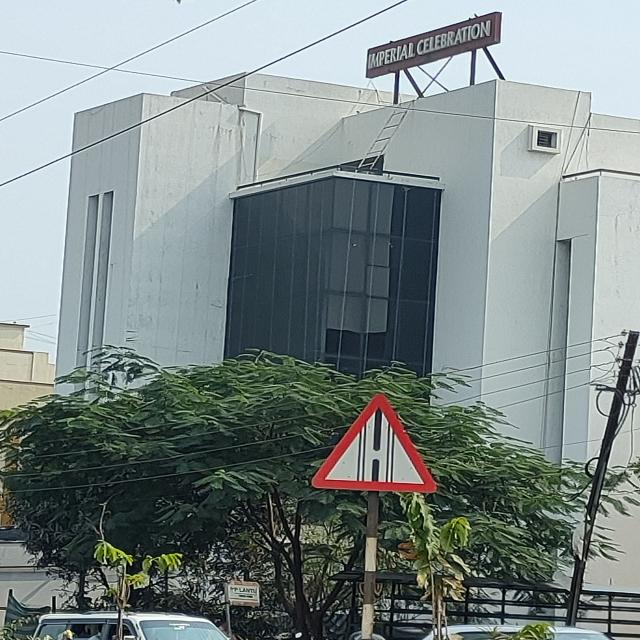GAP_IN_MEDIAN: (312, 394, 438, 494)
